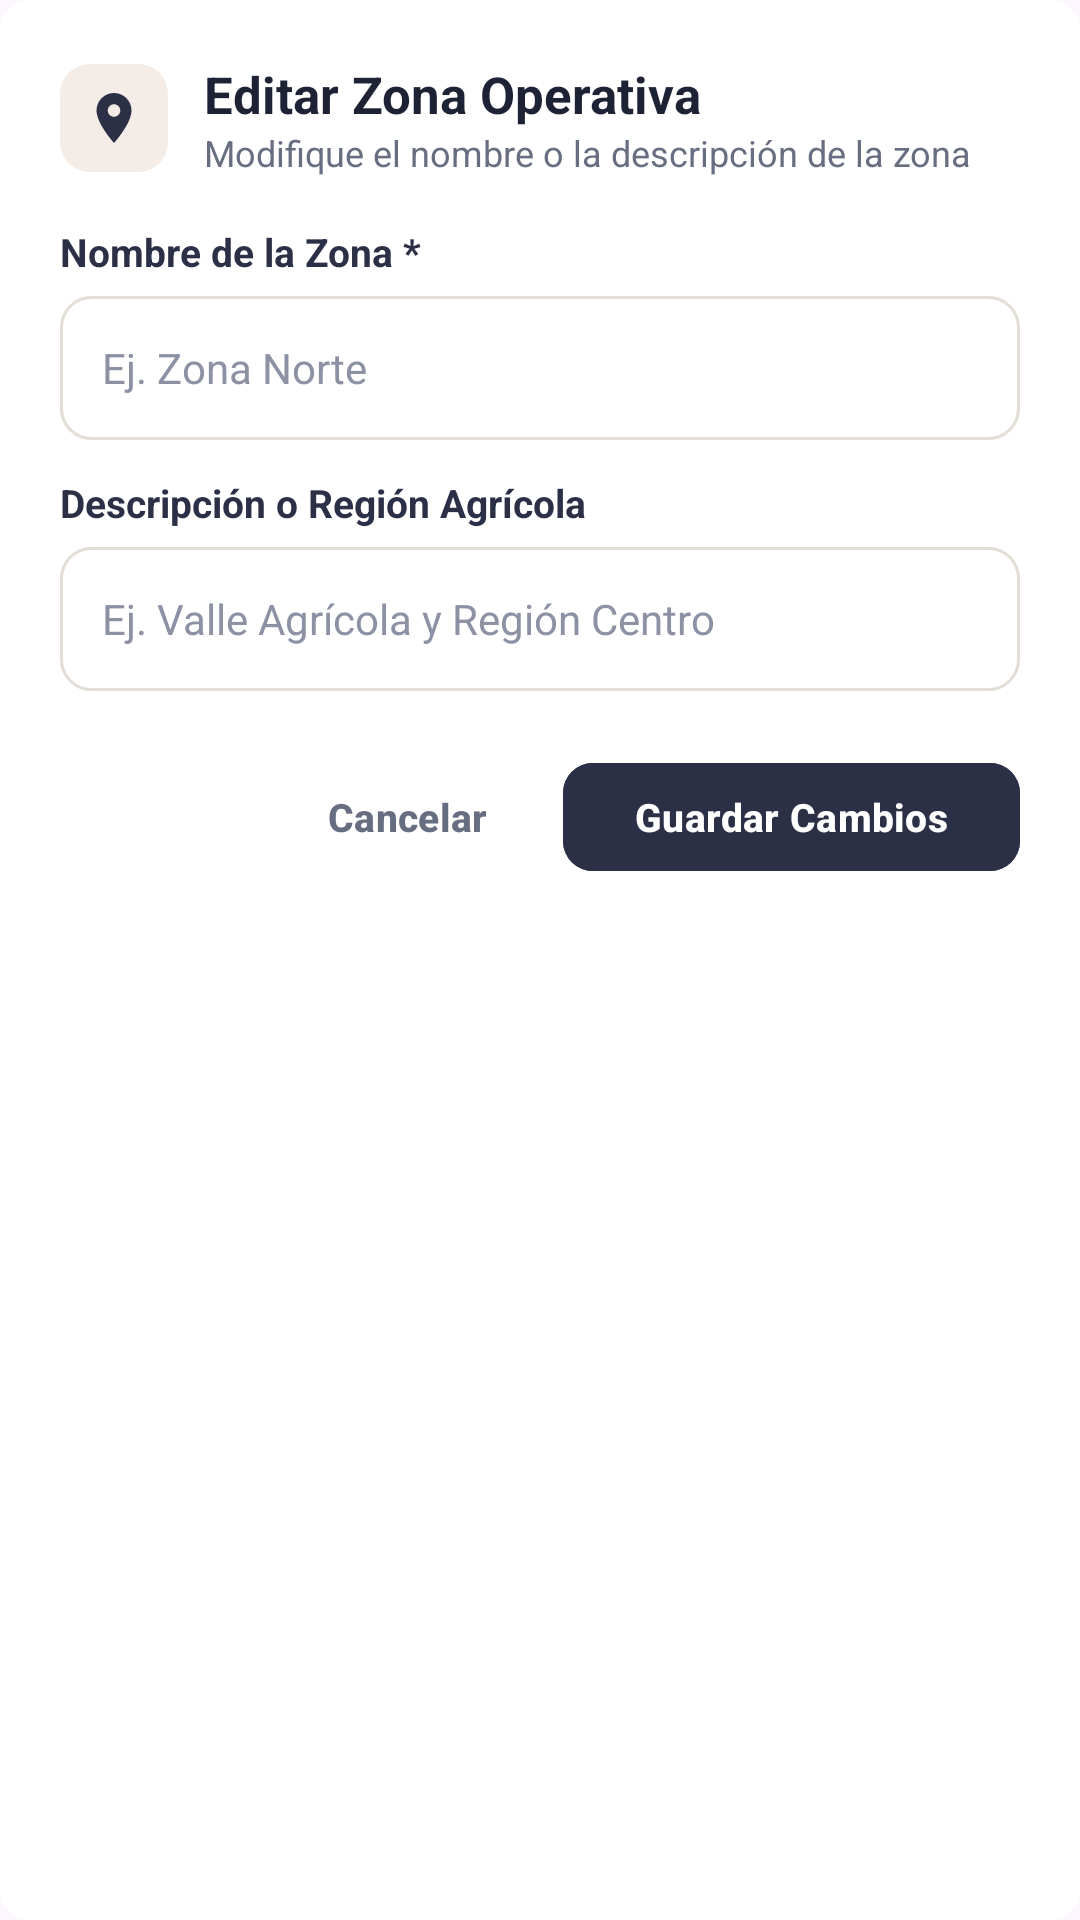

Named icons in this screenshot (1080×1920) and their centers, (x,y):
location: (114,118)
